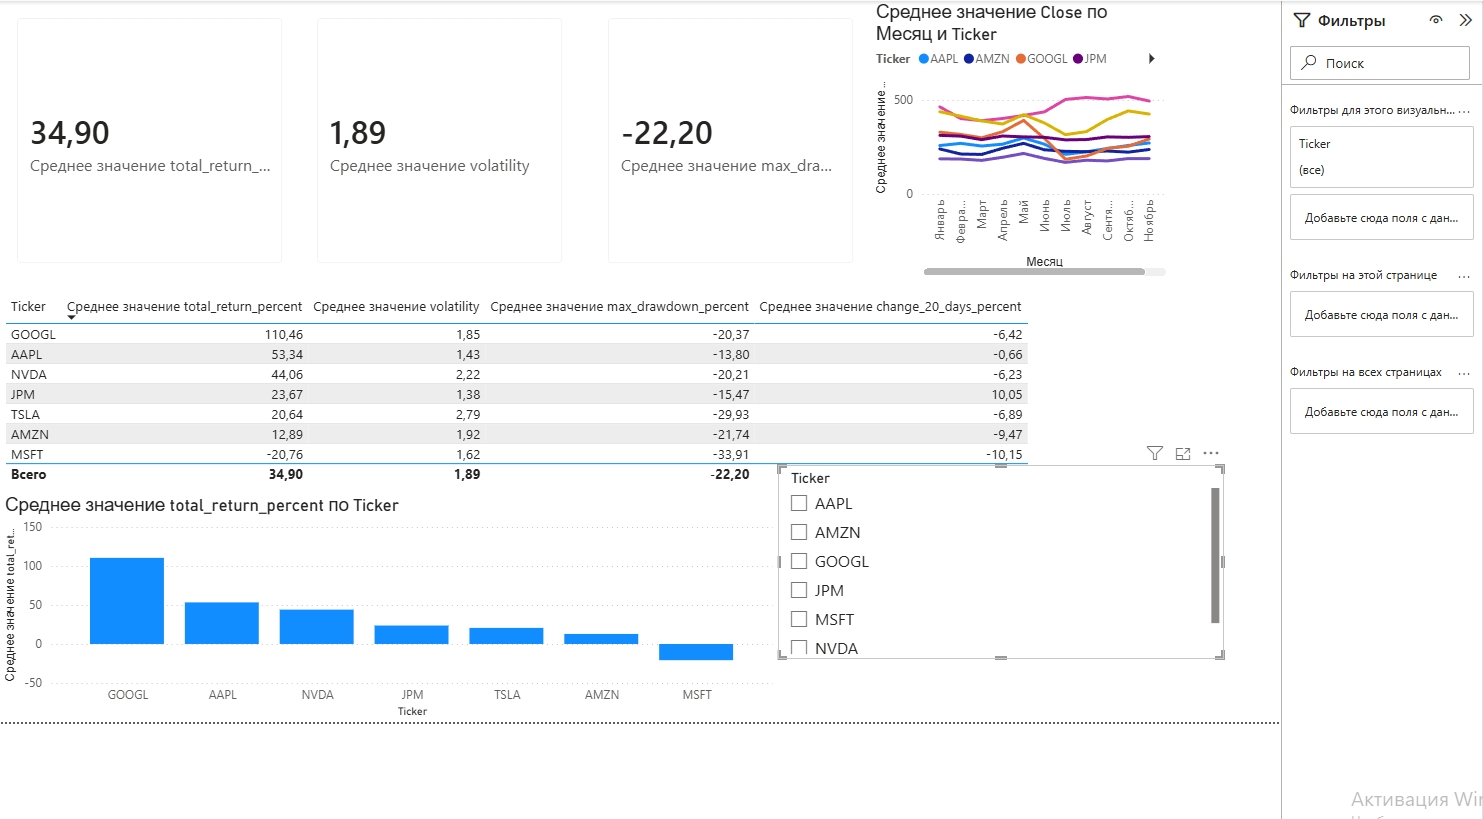

What the dashboard file says about the page in this screenshot:
{"tool":"powerbi","page":{"name":"Страница 1","canvas":[1280,720],"ordinal":0},"visuals":[{"type":"cardVisual","fields":{"Data":["Avg(Волатильность.volatility)"]},"box":[299.8,0,279.8,279.8],"z":0},{"type":"cardVisual","fields":{"Data":["Avg(Максимальное падение акции.max_drawdown_percent)"]},"box":[590.5,0,279.8,279.8],"z":1000},{"type":"cardVisual","fields":{"Data":["Avg(Доходность каждой акции за период.total_return_percent)"]},"box":[0,0,299.8,279.8],"z":2000},{"type":"lineChart","fields":{"Category":["us_stocks.Date.Изменение.Иерархия дат.Год","us_stocks.Date.Изменение.Иерархия дат.Квартал","us_stocks.Date.Изменение.Иерархия дат.Месяц","us_stocks.Date.Изменение.Иерархия дат.День"],"Y":["Avg(us_stocks.Close)"],"Series":["us_stocks.Ticker"]},"box":[870.3,0,299.8,279.8],"z":3000},{"type":"tableEx","fields":{"Values":["Доходность каждой акции за период.Ticker","Avg(Доходность каждой акции за период.total_return_percent)","Avg(Волатильность.volatility)","Avg(Максимальное падение акции.max_drawdown_percent)","Avg(Тренд.change_20_days_percent)"]},"box":[0,289.8,1047.2,202.8],"z":4000},{"type":"slicer","fields":{"Values":["Волатильность.Ticker"]},"box":[777.4,463.6,445.7,193.8],"z":5000},{"type":"clusteredColumnChart","fields":{"Category":["Волатильность.Ticker"],"Y":["Avg(Доходность каждой акции за период.total_return_percent)"]},"box":[0,492.6,777.4,227.8],"z":6000}]}

Visuals, with their boxes on the page's 1280x720 design canvas (x1, y1, x2, y2). These are canvas units, not pixel positions in the 1483x819 screenshot, which may show the page scaled, cropped or inside an application window:
cardVisual - Avg(Волатильность.volatility): BBox(300, 0, 580, 280)
cardVisual - Avg(Максимальное падение акции.max_drawdown_percent): BBox(590, 0, 870, 280)
cardVisual - Avg(Доходность каждой акции за период.total_return_percent): BBox(0, 0, 300, 280)
lineChart - us_stocks.Date.Изменение.Иерархия дат.Год x us_stocks.Date.Изменение.Иерархия дат.Квартал: BBox(870, 0, 1170, 280)
tableEx - Доходность каждой акции за период.Ticker x Avg(Доходность каждой акции за период.total_return_percent): BBox(0, 290, 1047, 493)
slicer - Волатильность.Ticker: BBox(777, 464, 1223, 657)
clusteredColumnChart - Волатильность.Ticker x Avg(Доходность каждой акции за период.total_return_percent): BBox(0, 493, 777, 720)
